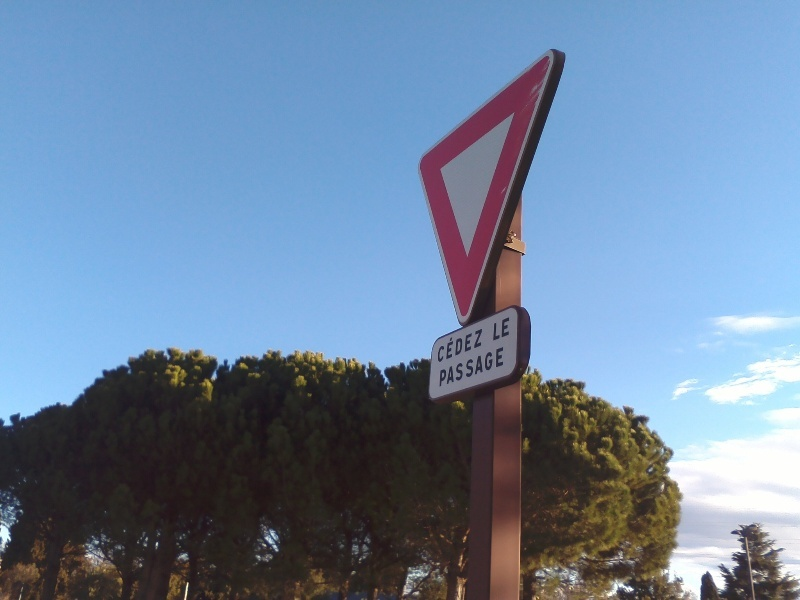text: (449, 347, 464, 388), (465, 347, 480, 388), (481, 347, 496, 388), (449, 327, 464, 364), (465, 327, 480, 364), (440, 347, 448, 388), (497, 317, 510, 341), (440, 327, 448, 364), (497, 347, 504, 388), (481, 327, 483, 364), (494, 317, 496, 341)
